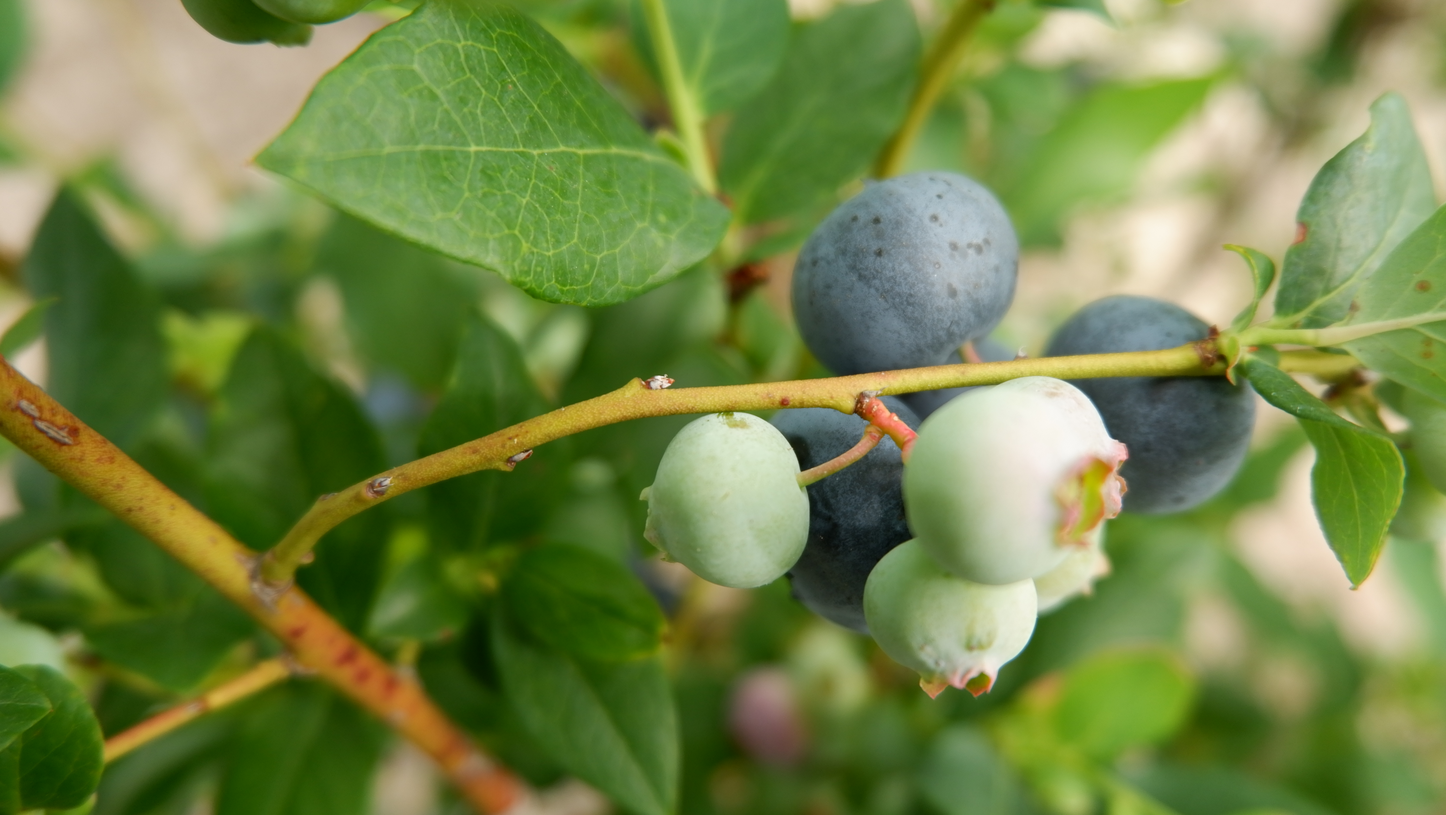Immature: (900, 385, 1117, 584), (640, 412, 811, 589), (866, 538, 1039, 699), (998, 374, 1129, 516), (1035, 519, 1115, 610)
Mature: (1039, 292, 1260, 516), (788, 172, 1022, 374), (771, 396, 923, 635), (889, 336, 1016, 418)
